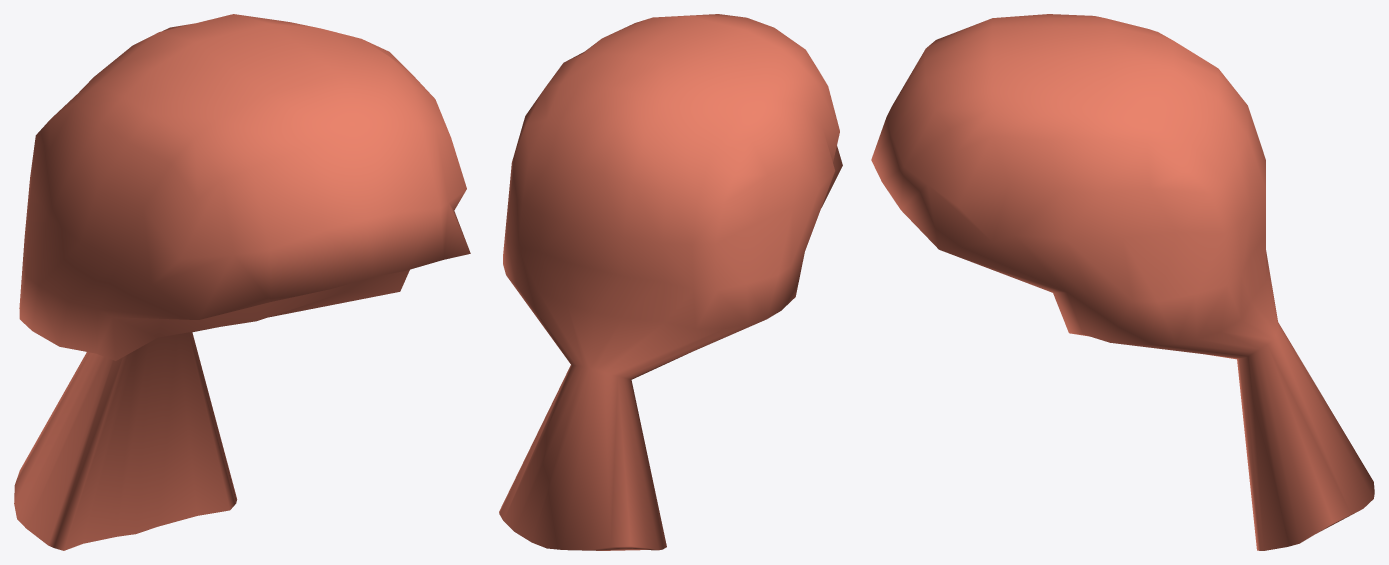
The model's file is cabello largo coleta chica 04.dae.
The picture shows the model from 3 angles, left to right: view 1: azimuth 30°, elevation 25°; view 2: azimuth 150°, elevation 25°; view 3: azimuth 270°, elevation 25°; orthographic projection. The views are drawn at different scales.
Parts seen in each view (by area): view 1: pasted__polySurface14; view 2: pasted__polySurface14; view 3: pasted__polySurface14.
Boxes of the visible parts, x1,y1,x2,y2 form: pasted__polySurface14: [14, 14, 470, 550]; pasted__polySurface14: [499, 14, 842, 550]; pasted__polySurface14: [871, 14, 1374, 550].
Bounding box in the file's own units: 1.06 × 1.59 × 1.5.
